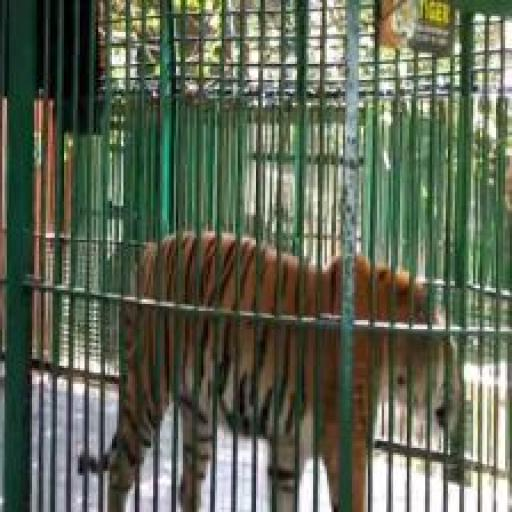Tiger: (80, 183, 479, 511)
